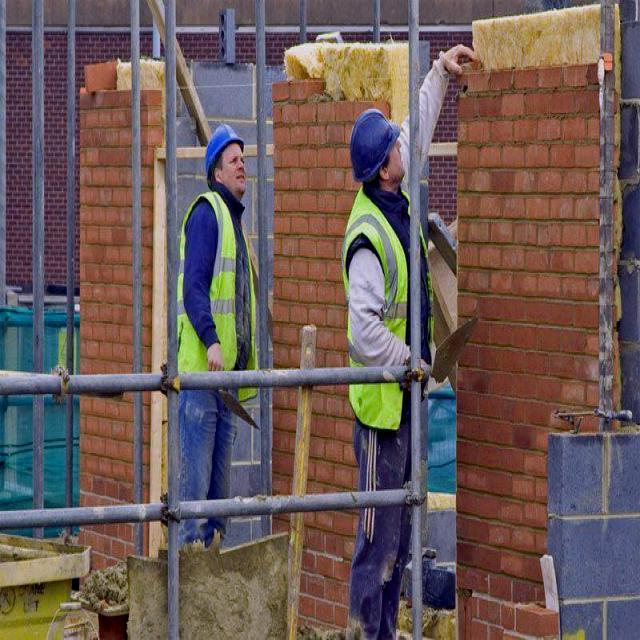face_nomask: (222, 142, 254, 196)
hand_noglove: (434, 40, 480, 81), (206, 344, 224, 387)
head_helmet: (350, 106, 401, 187), (205, 124, 244, 179)
person: (342, 79, 440, 636), (178, 120, 260, 554)
vest: (175, 191, 258, 401), (341, 186, 407, 430)
